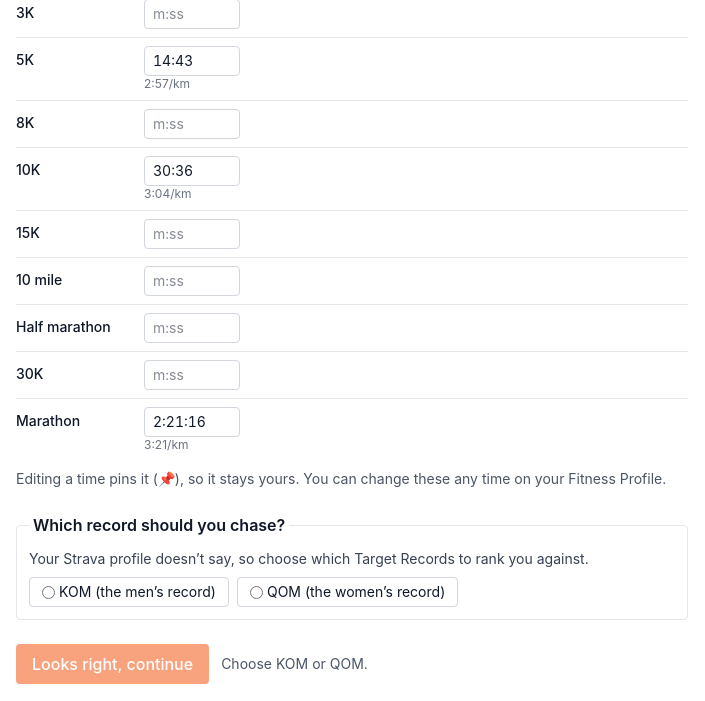
Scenario: the first-run wizard › shows an error when the KOM/QOM answer can’t be saved
This screenshot has width=705, height=701.
(page scrolled)
Click the radio button labelled "KOM (the men’s record)" at (48,592), box [42, 586, 55, 598]
(page scrolled)
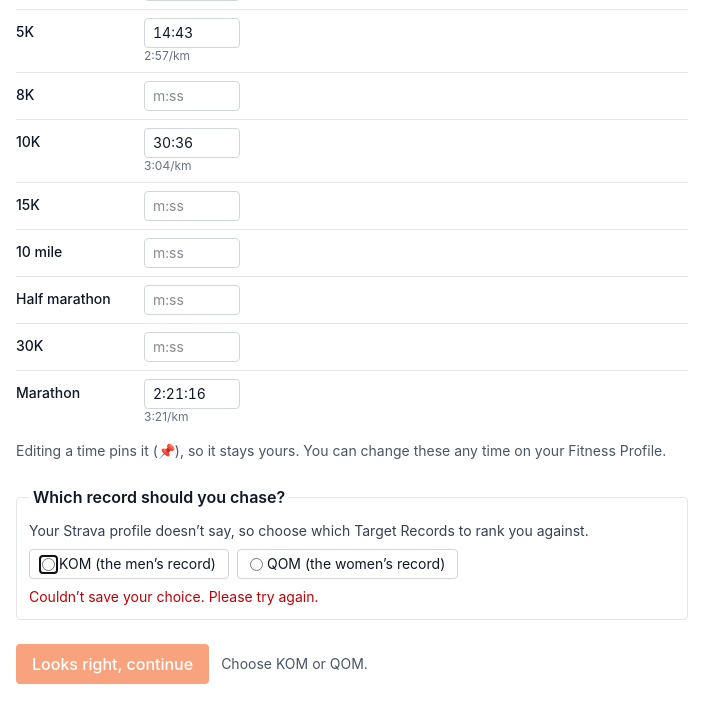
Check: the button "Looks right, continue" is disabled, box [16, 644, 209, 684]
Check: the message shows "Couldn’t save", box [29, 588, 318, 605]
